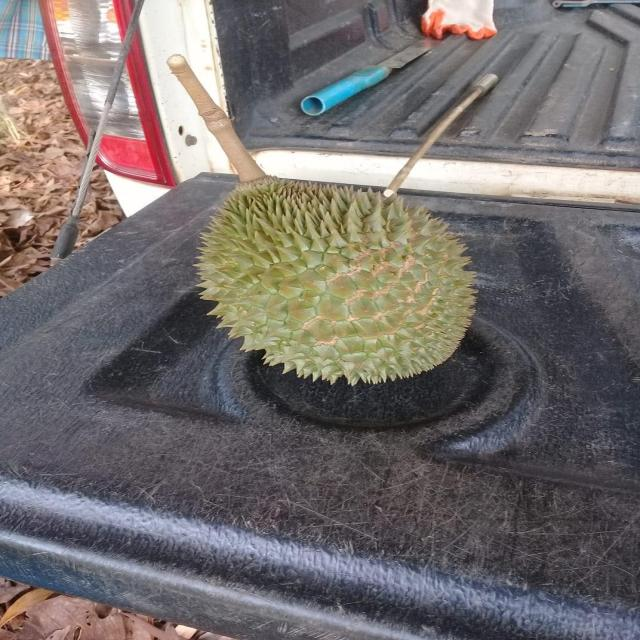immature: (187, 175, 480, 388)
